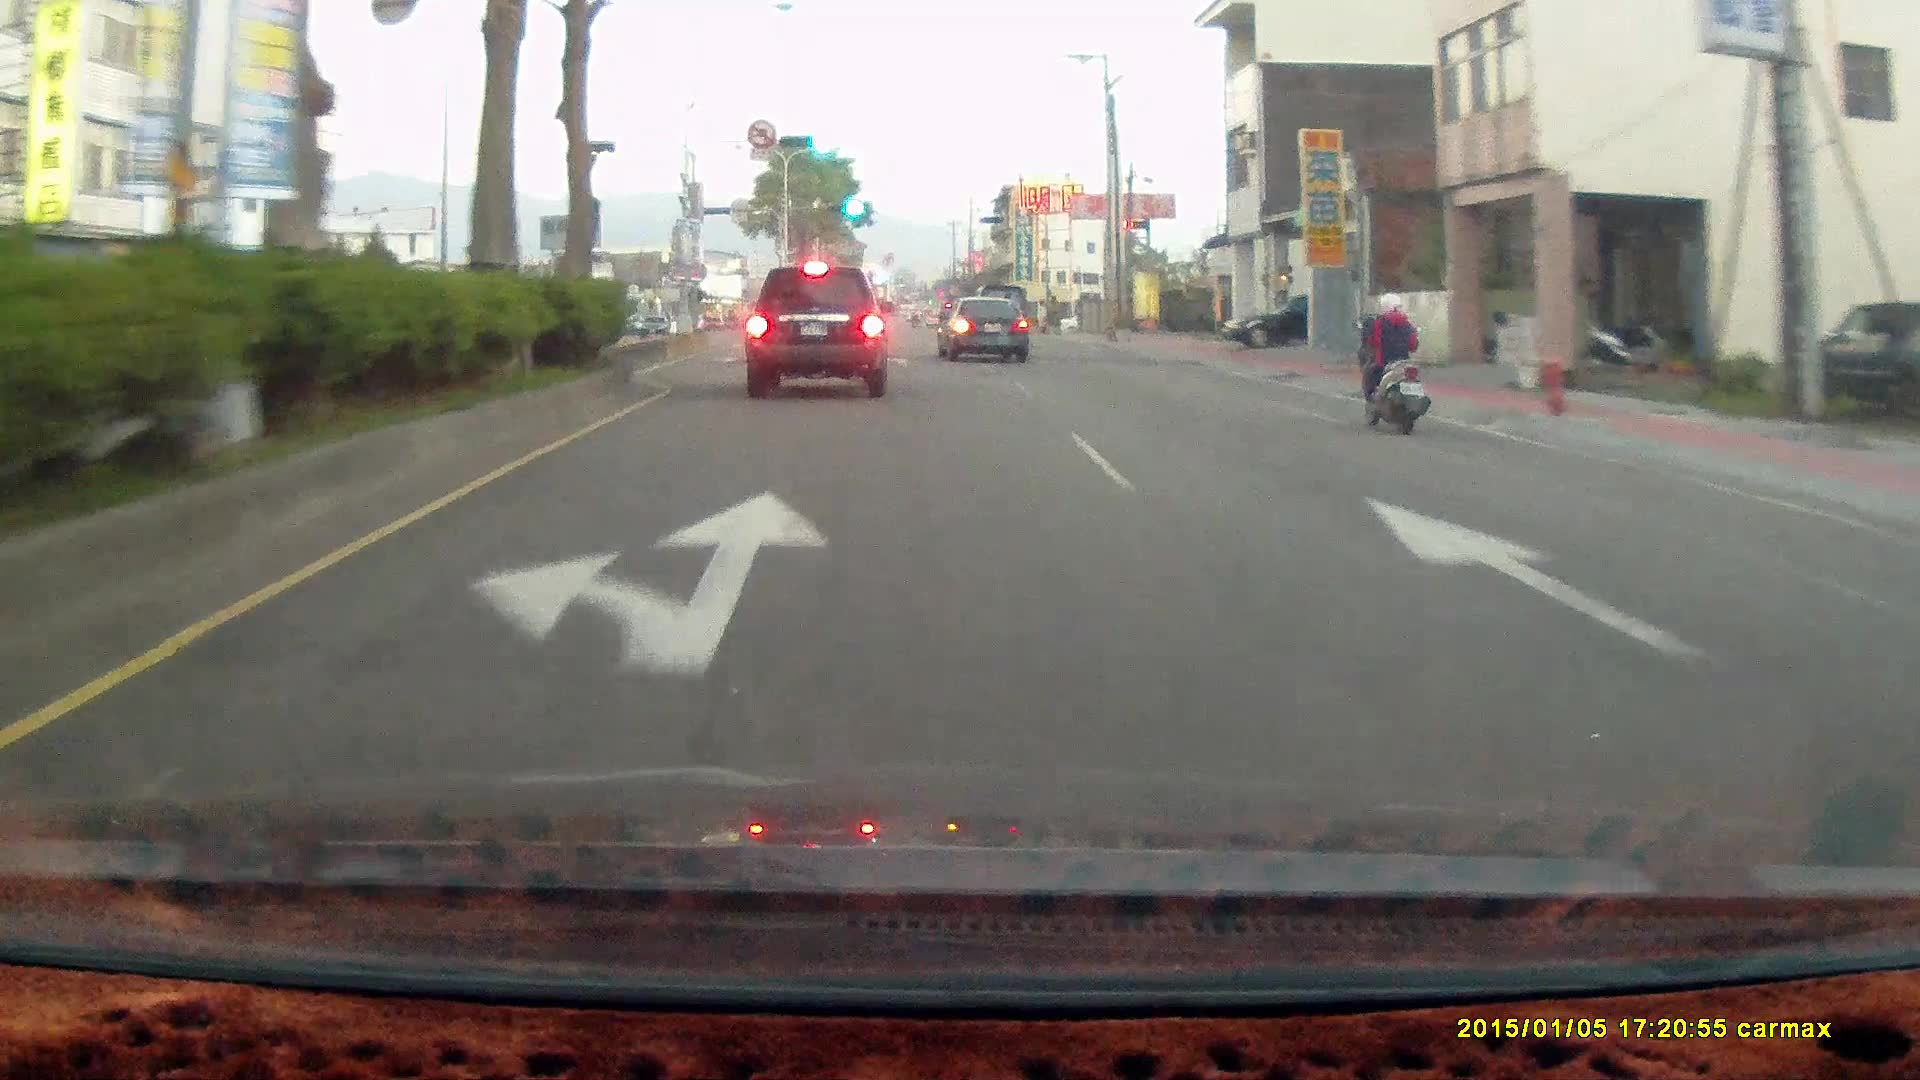rider: (1339, 278, 1446, 443), (1355, 289, 1430, 438)
vehicle: (739, 261, 890, 399), (744, 266, 895, 397), (1811, 300, 1920, 424), (1820, 299, 1920, 422), (1219, 290, 1381, 348), (942, 296, 1033, 363), (936, 292, 1028, 358), (1220, 293, 1313, 352)
